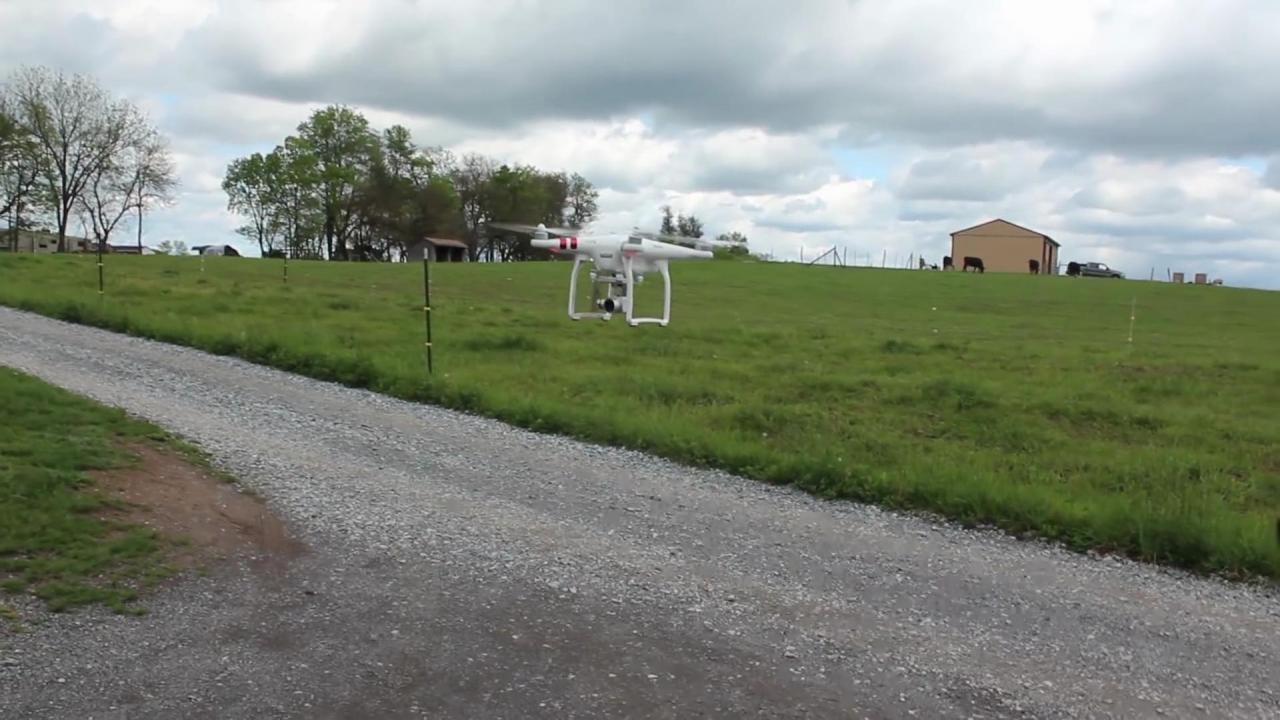Drone: (480, 206, 746, 342)
